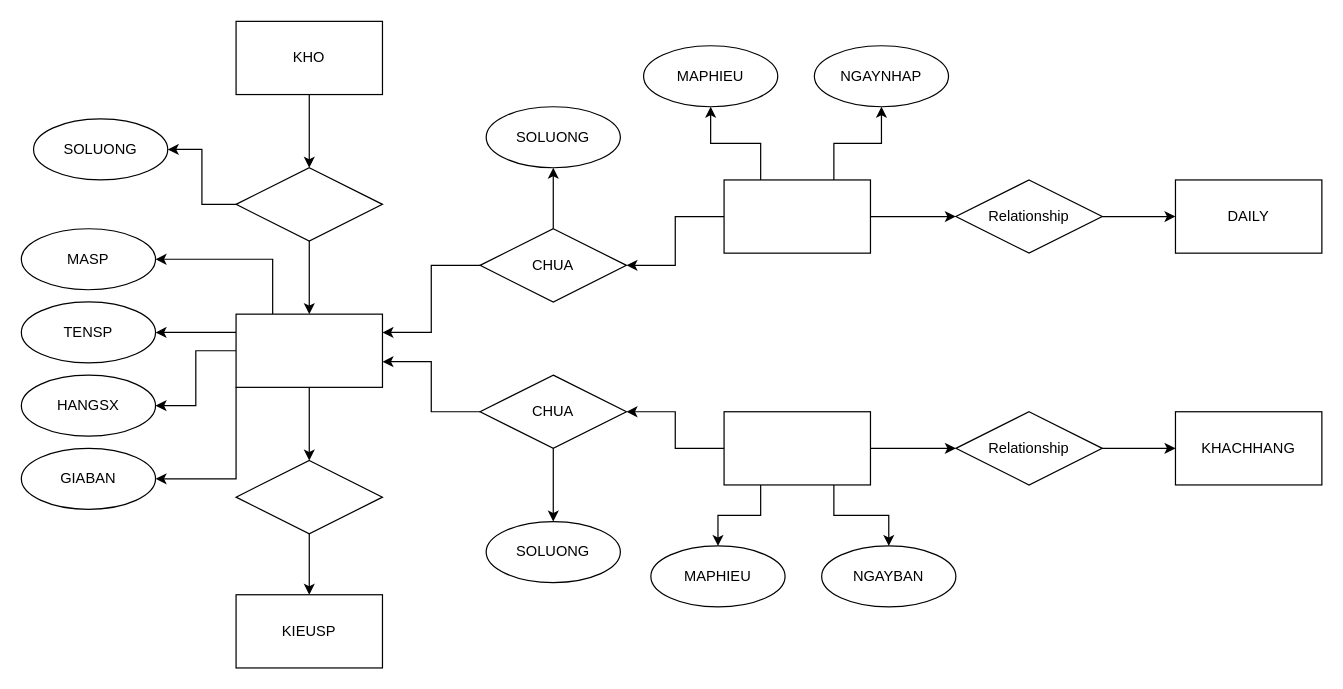
Some shapes in this 1343 by 689 pixel diagram are drawn without their labels. Each missing label, with the centre of its shape:
Chứa: [308,204]
PHIEUBAN: [796,448]
PHIEUNHAP: [796,216]
SANPHAM: [308,350]
THUOC: [308,496]
